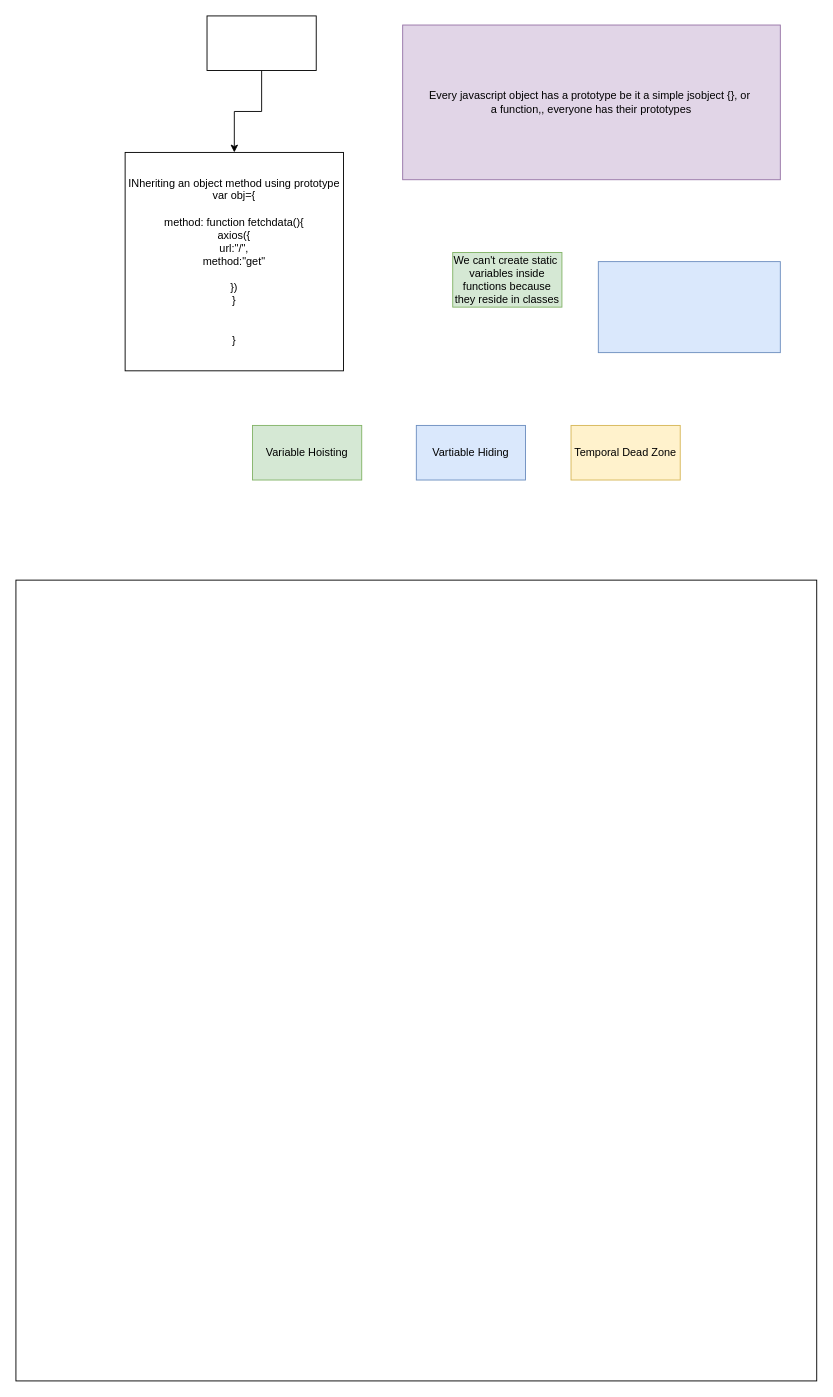
Image size: 833x1397. Some labels were removed from this diagram. Each missing label, with the centre of its shape:
// making a ludo game // properties like token,box,: the point at 416,980
Javascript allows static methods but does not allow static functions: the point at 688,307
Prototype is a method to inherit in js: the point at 261,43
